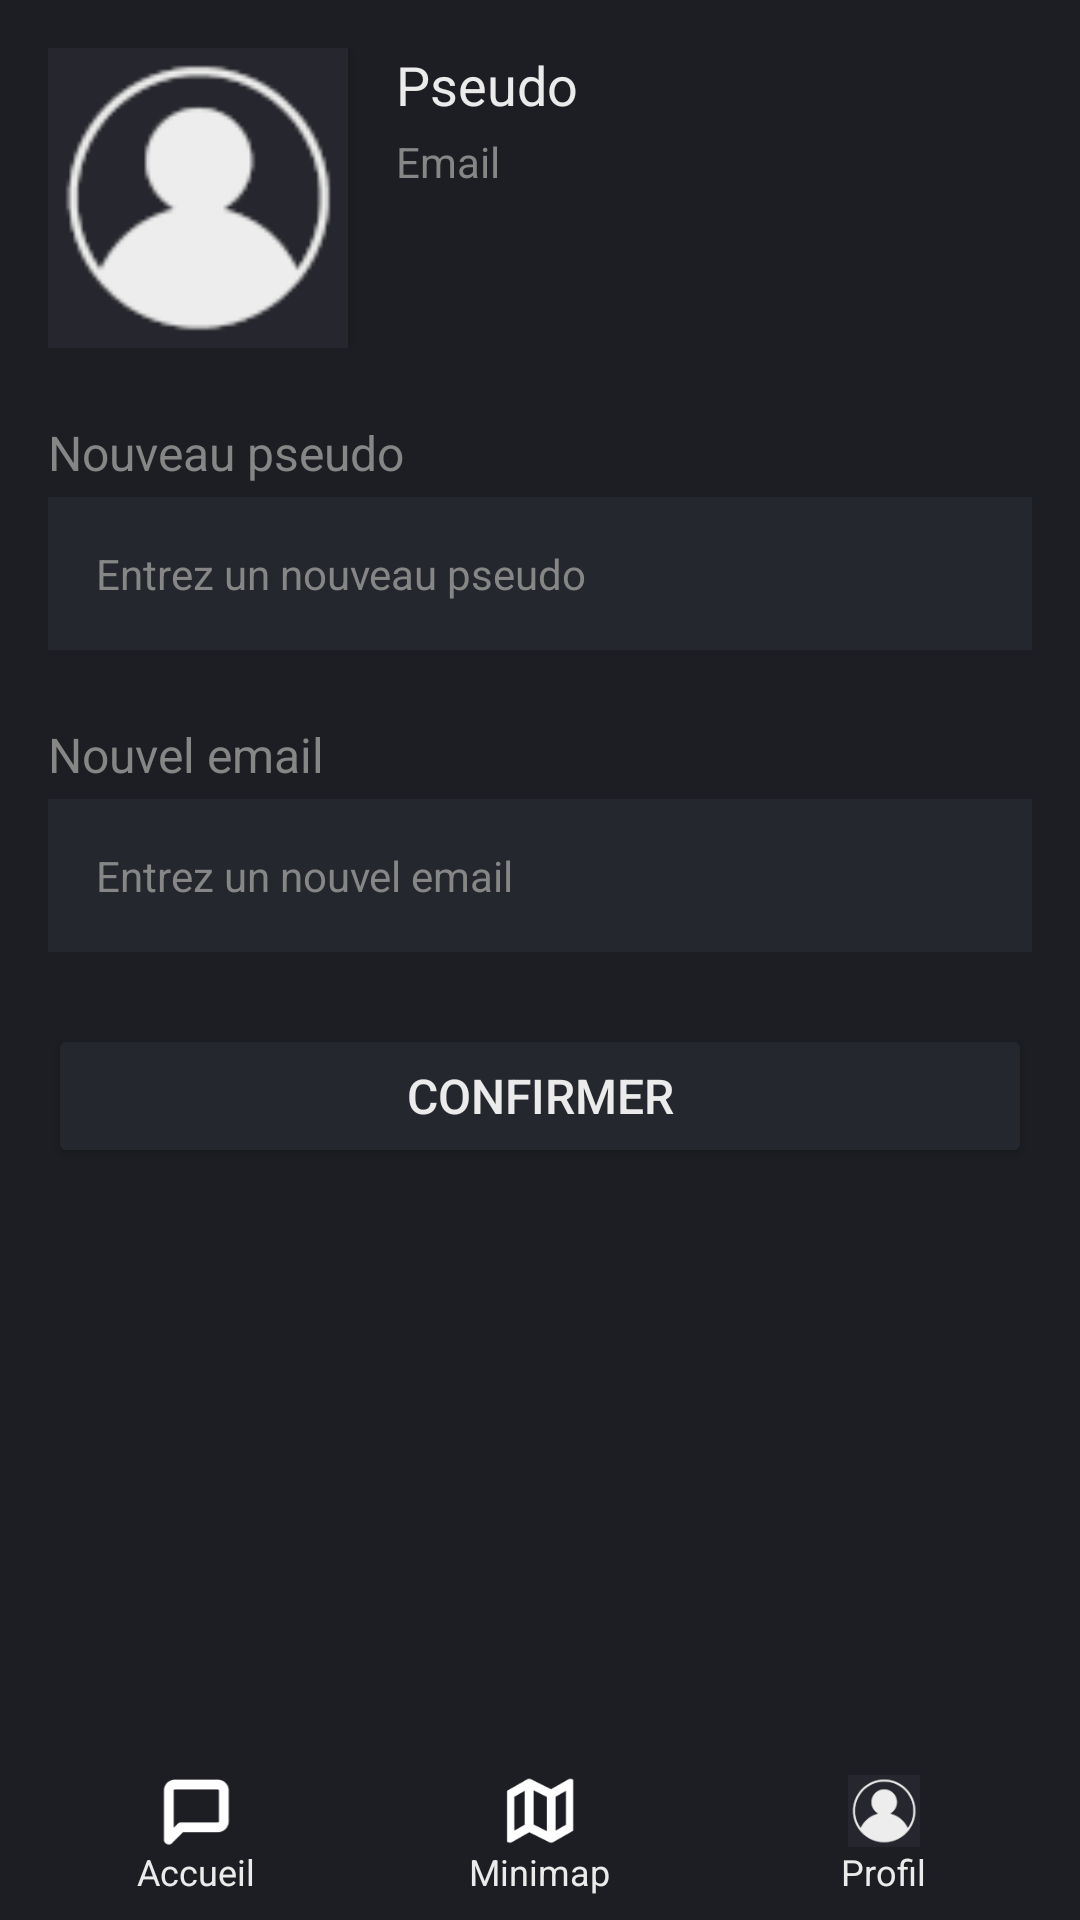

Where to tap for icons on this 1080px x 1920px app screen, as [x,y]:
Avatar: [198,198]
